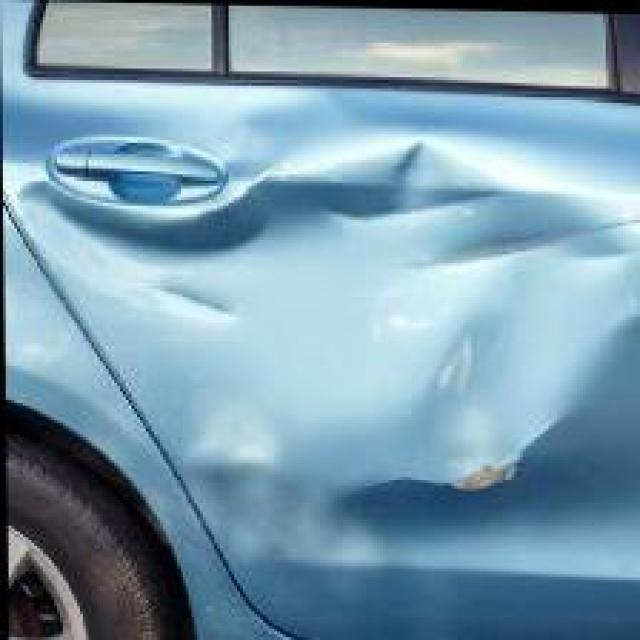car damage: (15, 128, 638, 324), (159, 328, 628, 541)
